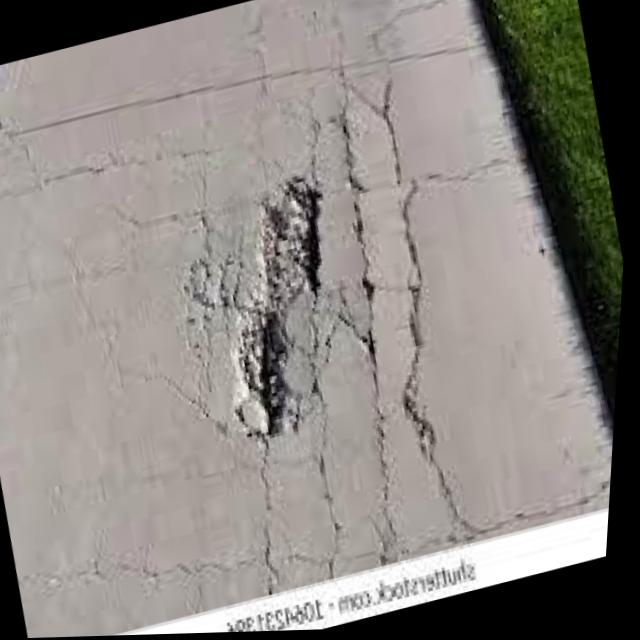Crack: (288, 69, 496, 523), (193, 168, 377, 457)
